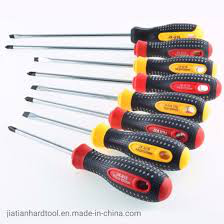Screwdriver: (4, 26, 224, 204)
